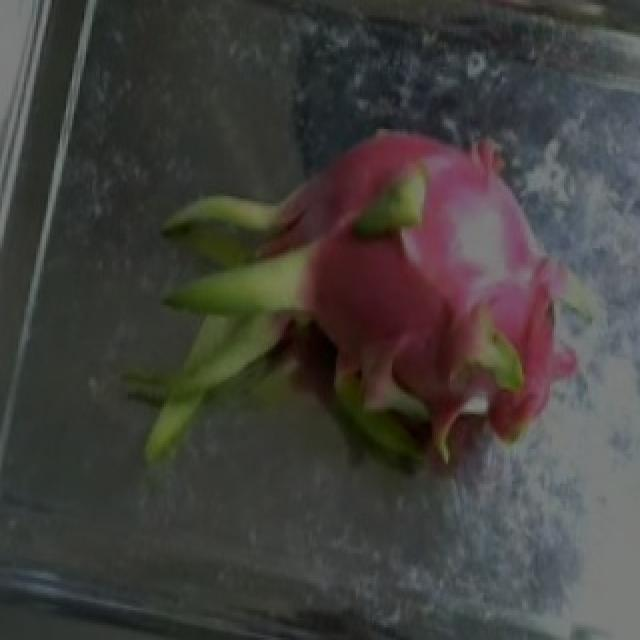fruit: (210, 74, 628, 534)
